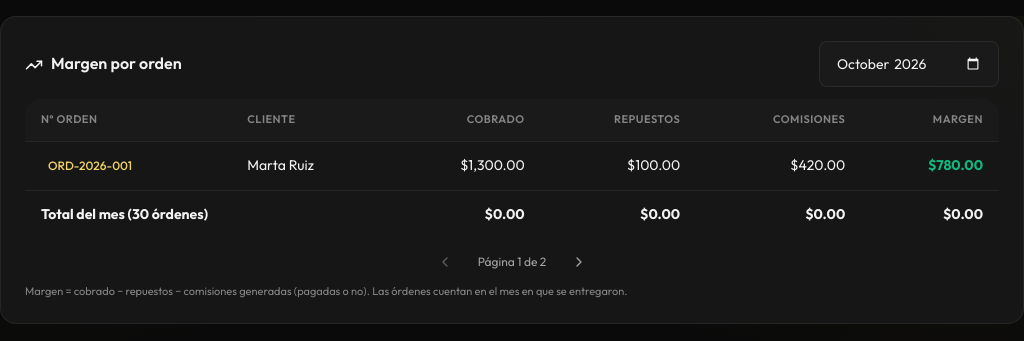
OrderMarginCard › pasa de página pidiendo la siguiente a la base
Expected: the text "Página 1 de 2" is shown, left=478, top=252, right=546, bottom=272
Click the button named "Siguiente": (579, 262) left=558, top=249, right=600, bottom=275
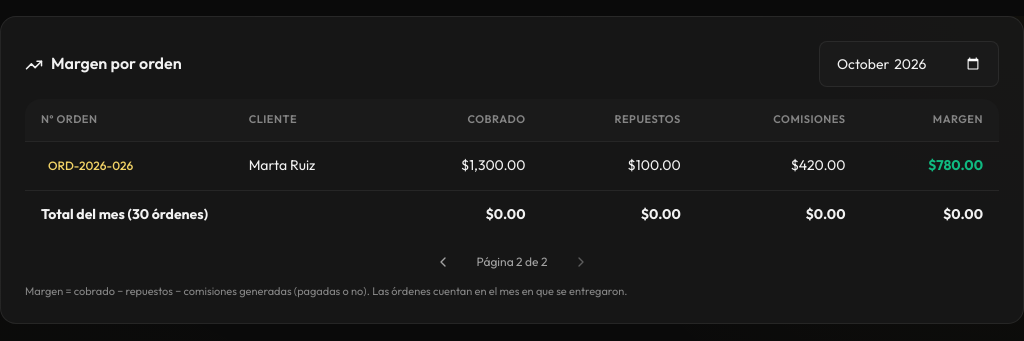
Expected: the button "ORD-2026-026" is shown, left=41, top=154, right=140, bottom=178
